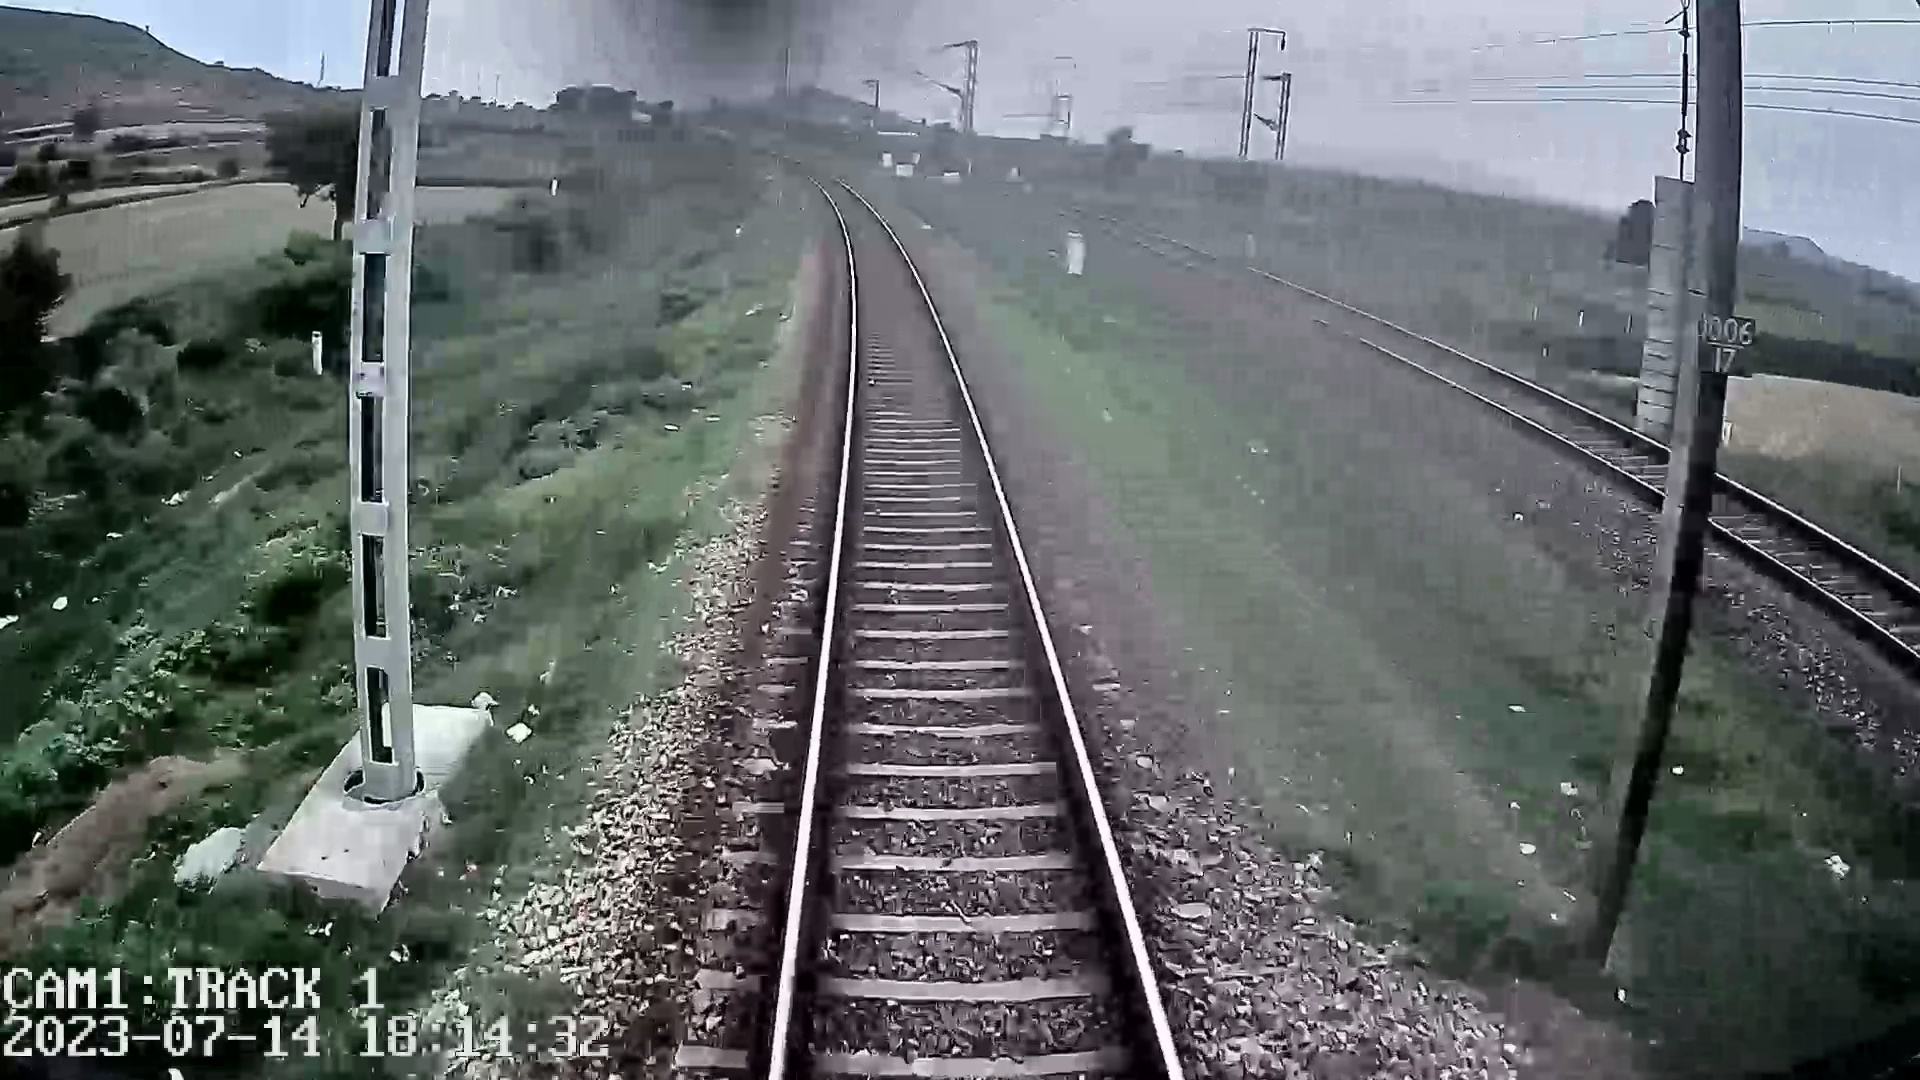track1: (778, 187, 1168, 1058)
track2: (1205, 272, 1912, 640)
